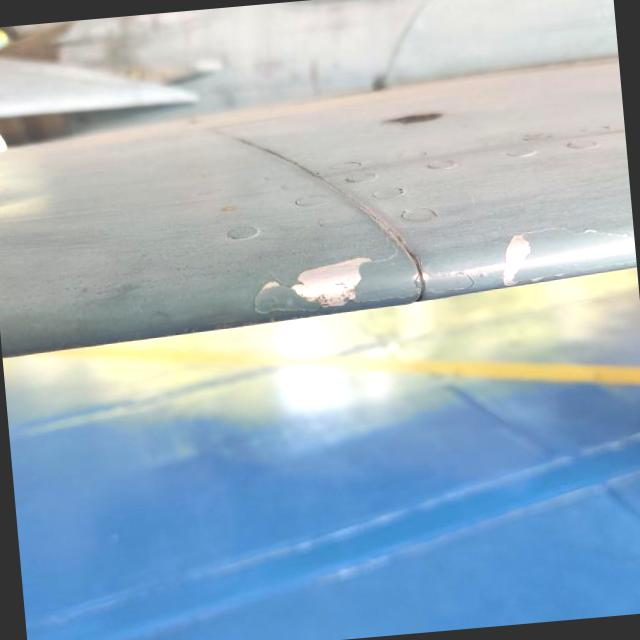paint-off: (270, 235, 386, 324), (480, 218, 552, 294)
